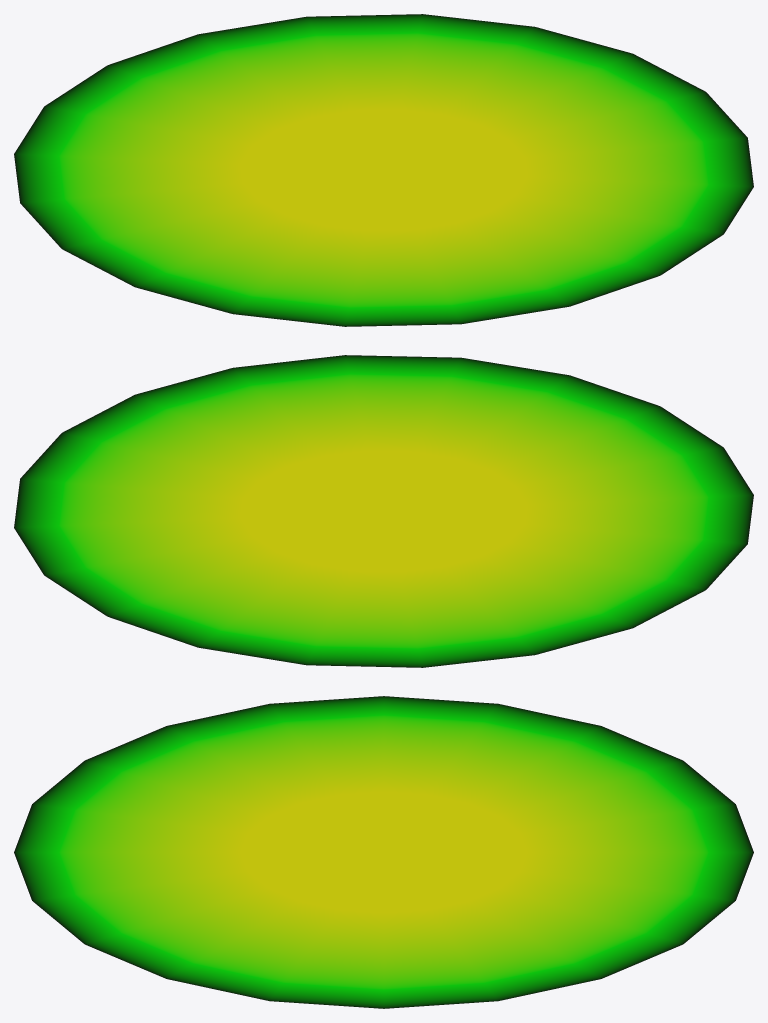
Rendered from Floor.fbx.
3 views of the same model, one above another, from view 1: azimuth 30°, elevation 25°; view 2: azimuth 150°, elevation 25°; view 3: azimuth 270°, elevation 25° (orthographic).
Visible parts, largest first — view 1: polySurface4; view 2: polySurface4; view 3: polySurface4.
Part boxes in pixels (<box>): polySurface4: <box>14,14,753,326</box>; polySurface4: <box>14,355,753,667</box>; polySurface4: <box>14,696,753,1008</box>.
Bounding box in the file's own units: 882 × 0 × 882.
